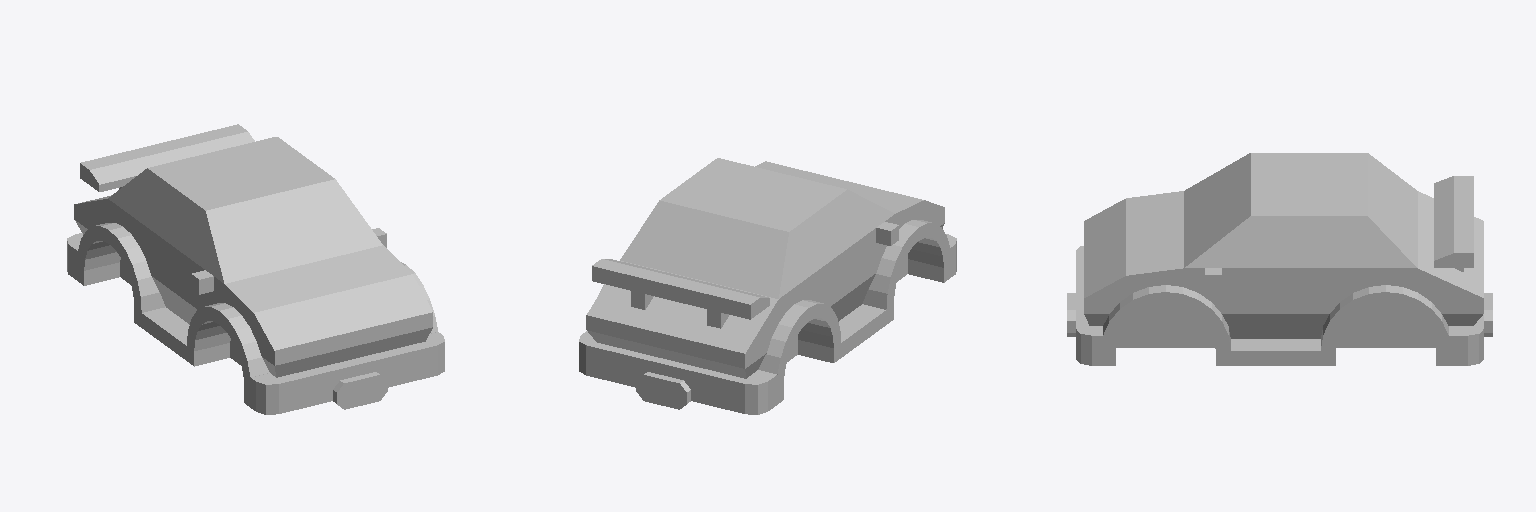
File: sedan_sport_sin_llantas.obj
3 views of the same model, side by side, from view 1: azimuth 30°, elevation 25°; view 2: azimuth 150°, elevation 25°; view 3: azimuth 270°, elevation 25° (orthographic).
Visible parts, largest first — view 1: sedan-sports; view 2: sedan-sports; view 3: sedan-sports.
Boxes of the visible parts, <box> form: sedan-sports: <box>67,124,444,414</box>; sedan-sports: <box>579,158,956,414</box>; sedan-sports: <box>1067,153,1492,365</box>.
Bounding box in the file's own units: 1.3 × 0.95 × 2.55.